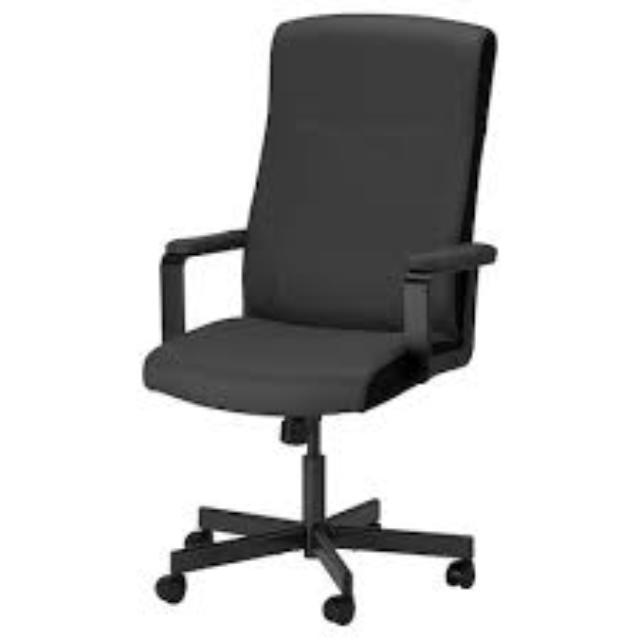obstacle: (117, 8, 525, 640)
